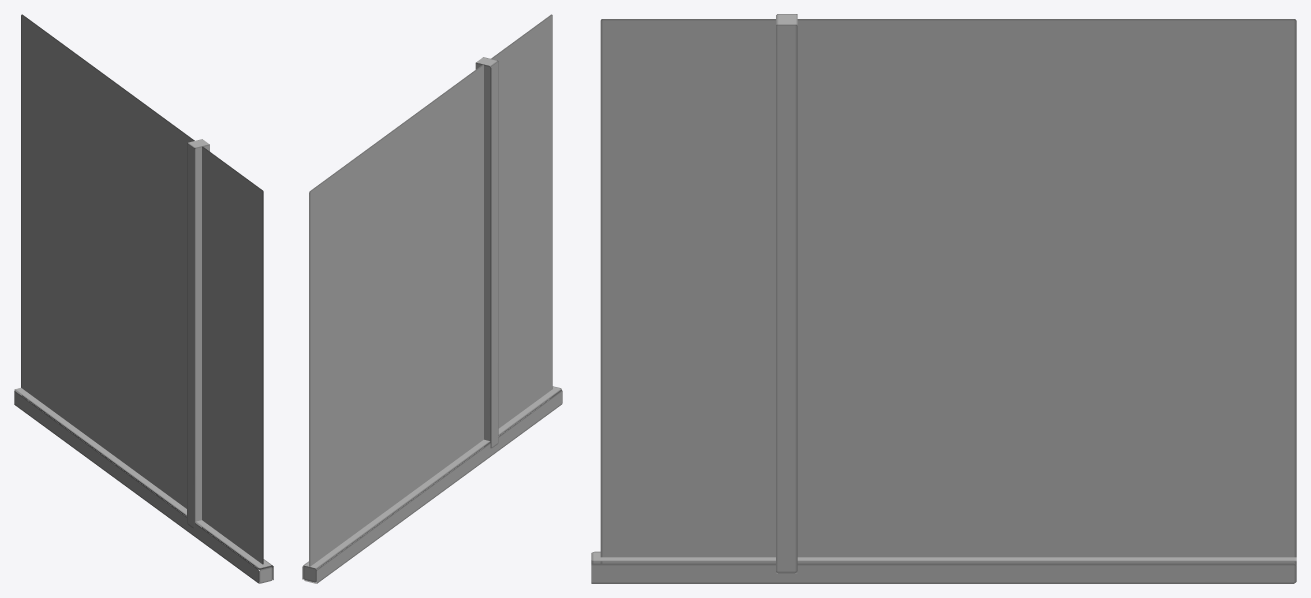
Rendered from pz_fence_png_fencing_01_2.obj.
3 renders of one model, left to right at view 1: azimuth 30°, elevation 25°; view 2: azimuth 150°, elevation 25°; view 3: azimuth 270°, elevation 25°, orthographic. The views are drawn at different scales.
Size of the model in its own units: 0.042 by 1.02 by 1.16.
1 material, 1 textured.
